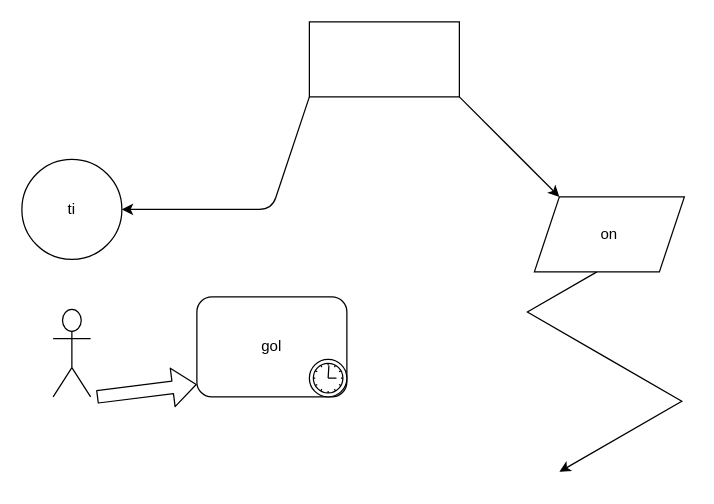
This 714x504 diagram has some shape labels left out. The shapes that lost their labels are listed below. From the top down, each one's box as (x1, y1, x2, y2) in pixels, then its label:
(308, 21, 459, 97): ja
(52, 308, 91, 397): Actor
